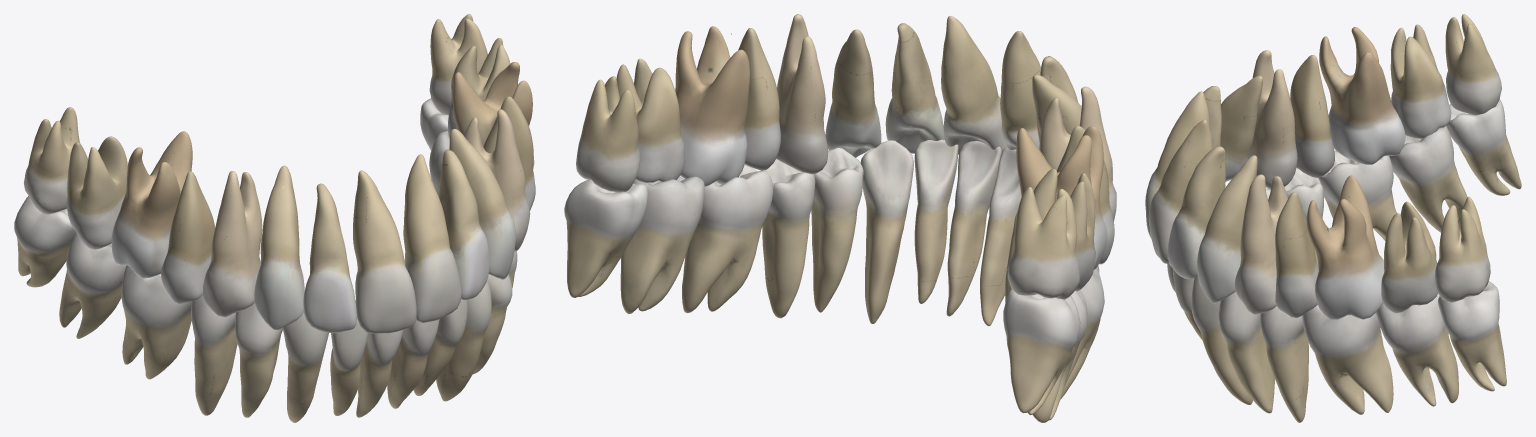
File: permanent_dentition.glb
3 views of the same model, side by side, from view 1: azimuth 30°, elevation 25°; view 2: azimuth 150°, elevation 25°; view 3: azimuth 270°, elevation 25° (orthographic). The views are drawn at different scales.
Parts seen in each view (by area): view 1: polySurface2, polySurface8, polySurface1, ZBrushPolyMesh3D8, polySurface6, polySurface10, ZBrushPolyMesh3D2, polySurface4, ZBrushPolyMesh3D9, ZBrushPolyMesh3D1_blinn14_0, ZBrushPolyMesh3D1, ZBrushPolyMesh3D2_blinn15_0 (+18 smaller); view 2: ZBrushPolyMesh3D5_blinn18_0, LL6seam_2ZBrushPolyMesh3D, LL7seam_2ZBrushPolyMesh3D, ZBrushPolyMesh3D, LL8seam_2ZBrushPolyMesh3D, LL3seam_2ZBrushPolyMesh3D, polySurface12, ZBrushPolyMesh3D3_blinn16_0, polySurface1, LL4seam_2ZBrushPolyMesh3D, LL5seam_3ZBrushPolyMesh3D, ZBrushPolyMesh3D7_blinn20_0 (+16 smaller); view 3: ZBrushPolyMesh3D5_blinn18_0, polySurface8, LL6seam_2ZBrushPolyMesh3D, LL7seam_2ZBrushPolyMesh3D, polySurface10, ZBrushPolyMesh3D3_blinn16_0, polySurface9, ZBrushPolyMesh3D1, ZBrushPolyMesh3D2_blinn15_0, LL8seam_2ZBrushPolyMesh3D, ZBrushPolyMesh3D8, ZBrushPolyMesh3D7_blinn20_0 (+15 smaller).
Part boxes in pixels (x1,y1,x2,y2): polySurface2: (353, 170, 416, 333); polySurface8: (111, 131, 192, 278); polySurface1: (403, 154, 461, 322); ZBrushPolyMesh3D8: (202, 171, 262, 317); polySurface6: (254, 165, 304, 329); polySurface10: (66, 136, 127, 249); ZBrushPolyMesh3D2: (121, 265, 191, 379); polySurface4: (303, 183, 356, 333); ZBrushPolyMesh3D9: (161, 171, 214, 303); ZBrushPolyMesh3D1_blinn14_0: (439, 150, 489, 300); ZBrushPolyMesh3D1: (59, 232, 126, 338); ZBrushPolyMesh3D2_blinn15_0: (449, 129, 515, 279); ZBrushPolyMesh3D5_blinn18_0: (675, 26, 750, 186); LL6seam_2ZBrushPolyMesh3D: (682, 164, 772, 313); LL7seam_2ZBrushPolyMesh3D: (620, 176, 704, 313); ZBrushPolyMesh3D: (1003, 289, 1080, 415); LL8seam_2ZBrushPolyMesh3D: (564, 179, 648, 297); LL3seam_2ZBrushPolyMesh3D: (860, 140, 913, 323); polySurface12: (1007, 187, 1079, 299); ZBrushPolyMesh3D3_blinn16_0: (776, 14, 827, 174); polySurface1: (941, 16, 1007, 154); LL4seam_2ZBrushPolyMesh3D: (811, 148, 863, 312); LL5seam_3ZBrushPolyMesh3D: (761, 159, 815, 318); ZBrushPolyMesh3D7_blinn20_0: (576, 76, 640, 192); ZBrushPolyMesh3D5_blinn18_0: (1306, 175, 1384, 320); polySurface8: (1319, 27, 1405, 164); LL6seam_2ZBrushPolyMesh3D: (1302, 305, 1393, 414); LL7seam_2ZBrushPolyMesh3D: (1376, 293, 1458, 406); polySurface10: (1390, 24, 1451, 138); ZBrushPolyMesh3D3_blinn16_0: (1235, 174, 1287, 314); polySurface9: (1381, 201, 1437, 313); ZBrushPolyMesh3D1: (1389, 126, 1467, 232); ZBrushPolyMesh3D2_blinn15_0: (1197, 155, 1257, 303); LL8seam_2ZBrushPolyMesh3D: (1438, 281, 1506, 391); ZBrushPolyMesh3D8: (1248, 50, 1297, 189); ZBrushPolyMesh3D7_blinn20_0: (1435, 196, 1490, 302).
Size of the model in its own units: 2.59 by 1.54 by 1.91.
16 materials, 16 textured.
